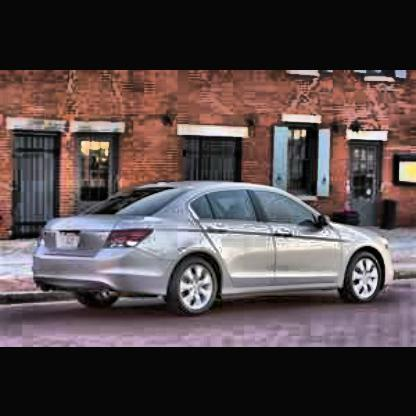Honda Accord Sedan 2012: (38, 185, 394, 313)
